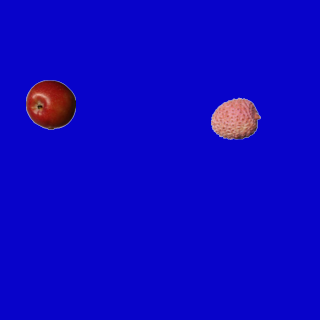Apple Braeburn: (25, 79, 75, 129)
Lychee: (210, 93, 260, 143)
